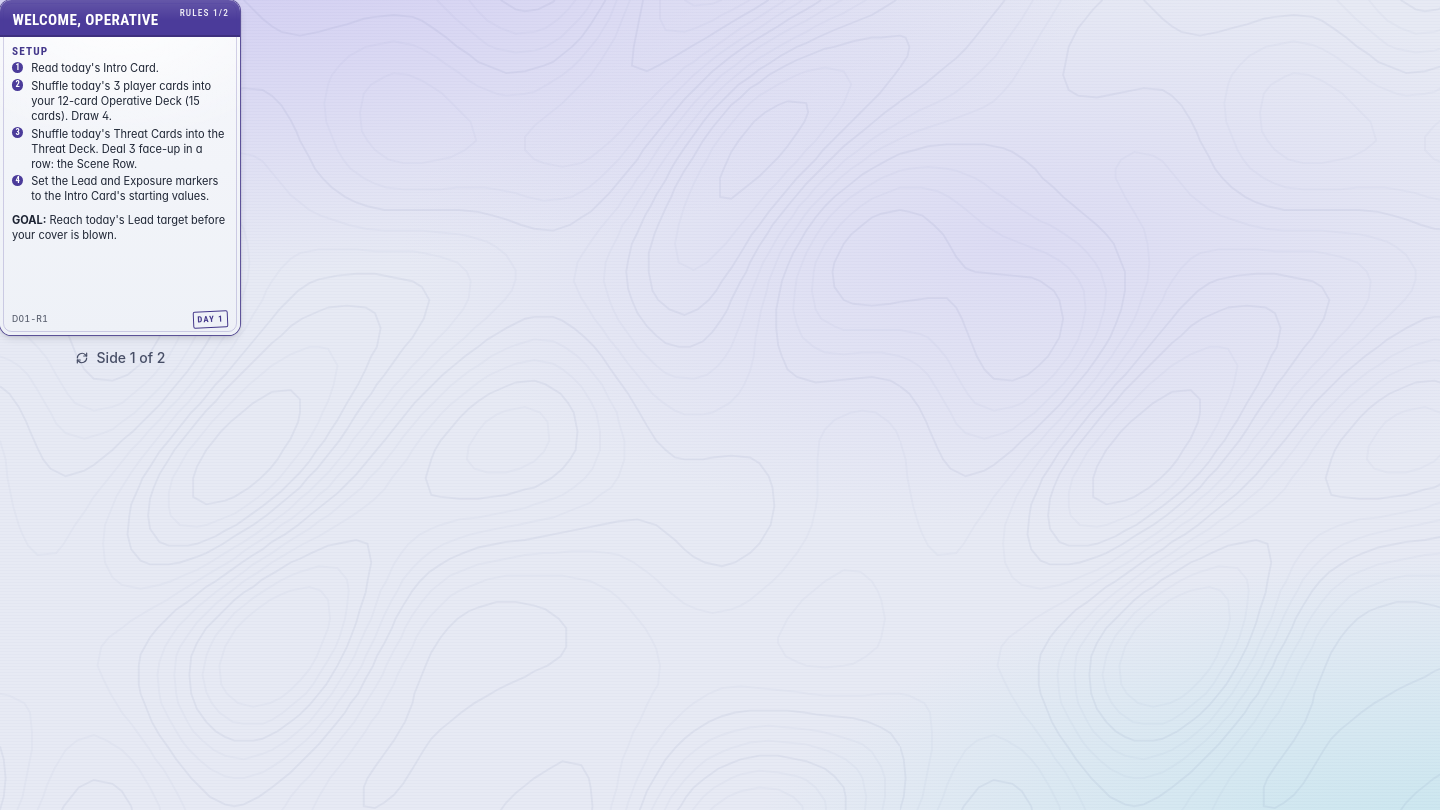
it: other cards › flips rule cards and keeps the hidden side out of the accessibility tree
Click the button "Side 1 of 2": point(120, 358) [63,343,178,372]
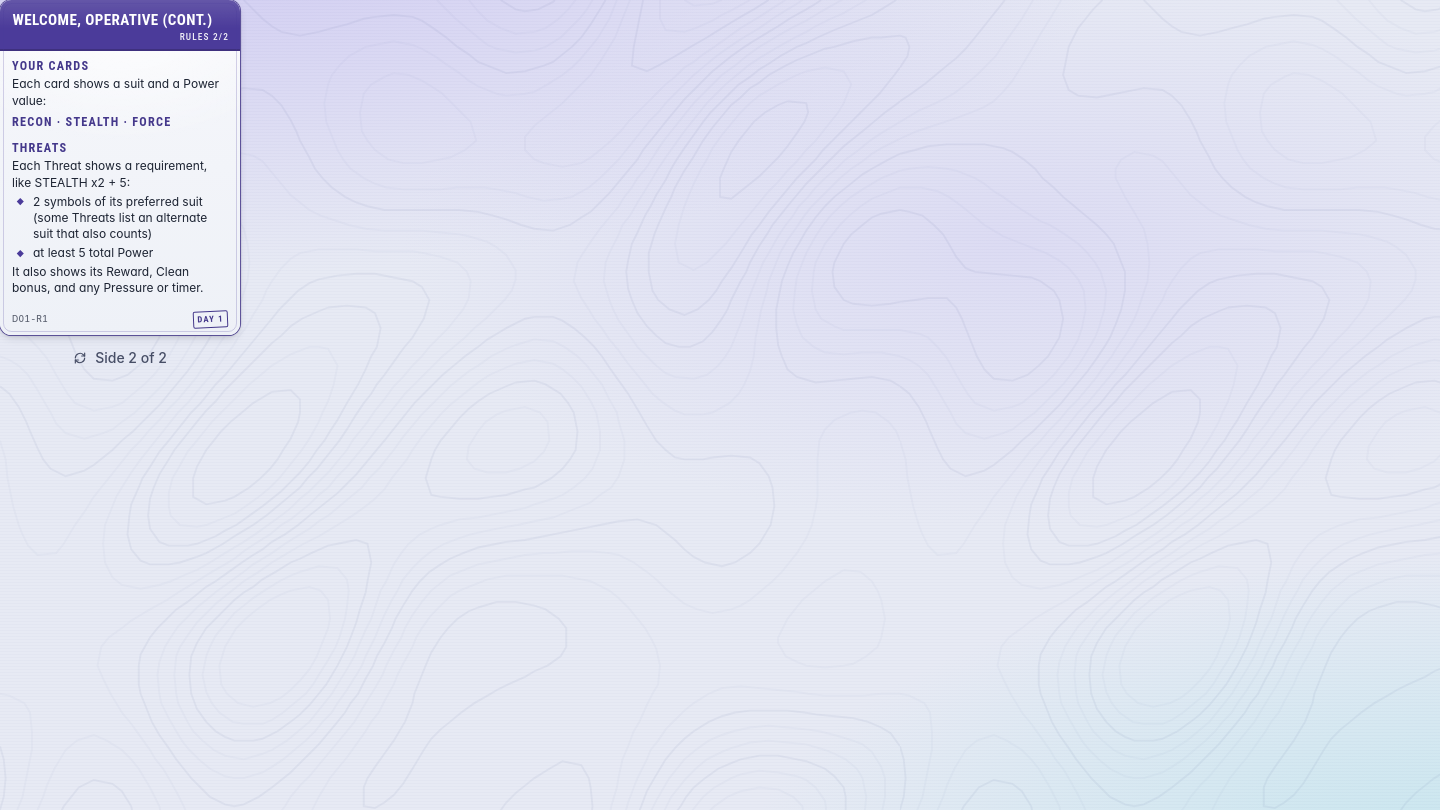
Now the element with class "flip__face" has attribute inert, box [0,0,240,335]
Now the element with class "flip__face" does not have attribute inert, box [0,0,240,335]
